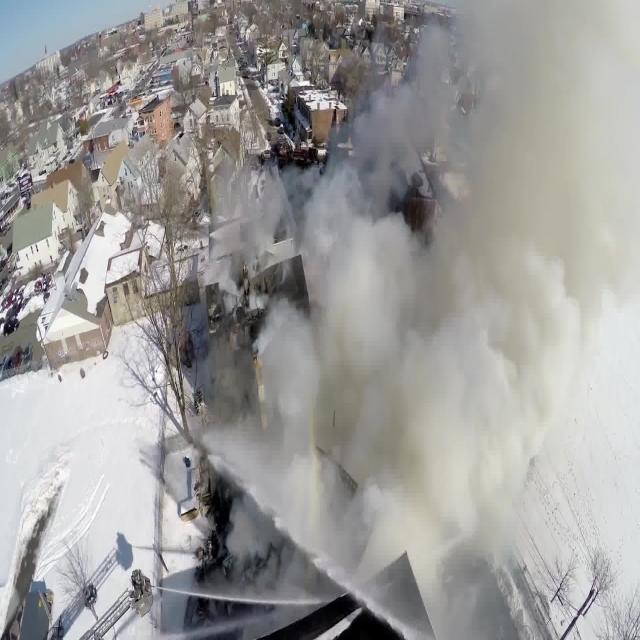Smoke: (218, 0, 639, 625)
